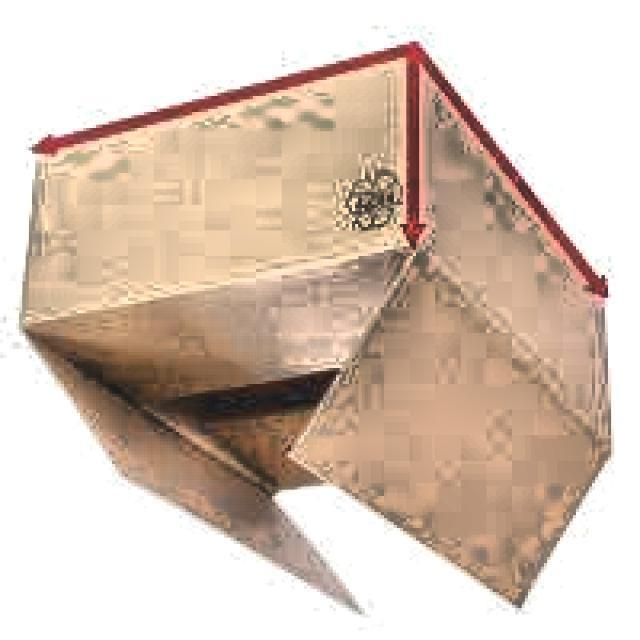cardboard: (22, 42, 618, 620)
